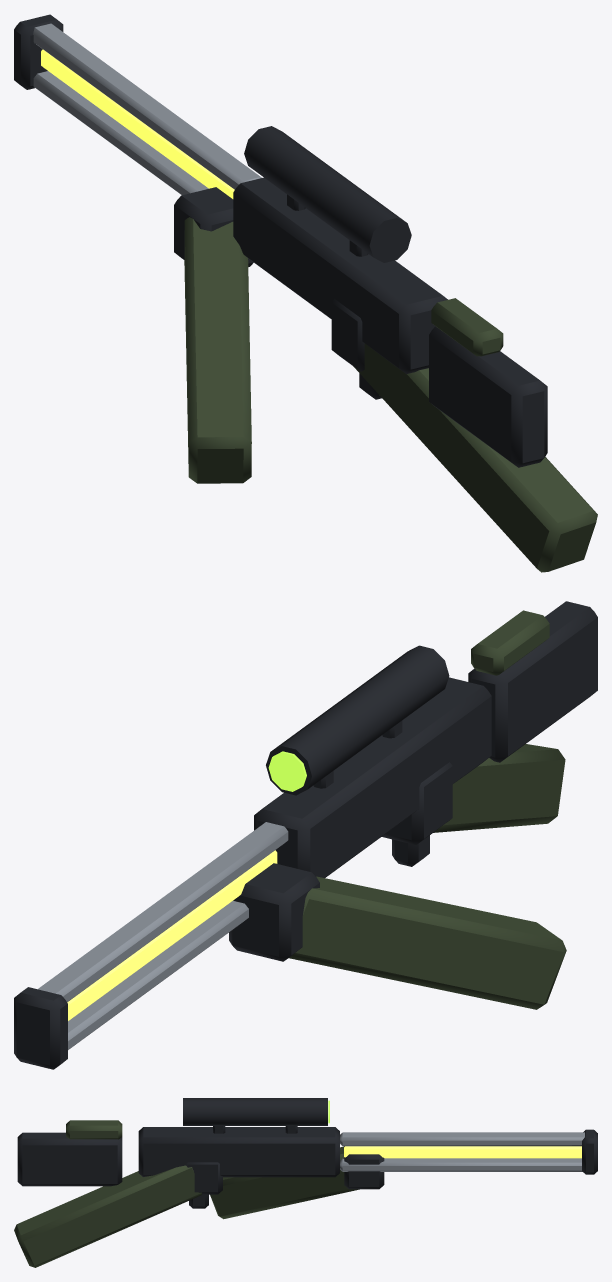
Rendered from weapon_rook.glb.
3 renders of one model, top to bottom at view 1: azimuth 30°, elevation 25°; view 2: azimuth 150°, elevation 25°; view 3: azimuth 270°, elevation 25°, orthographic. The views are drawn at different scales.
Parts seen in each view (by area): view 1: weapon; view 2: weapon; view 3: weapon.
Part boxes in pixels (x1,y1,x2,y2): weapon: (14,14,597,572); weapon: (14,601,597,1069); weapon: (14,1098,597,1267).
Bounding box in the file's own units: 0.3862 × 0.4147 × 1.45.
